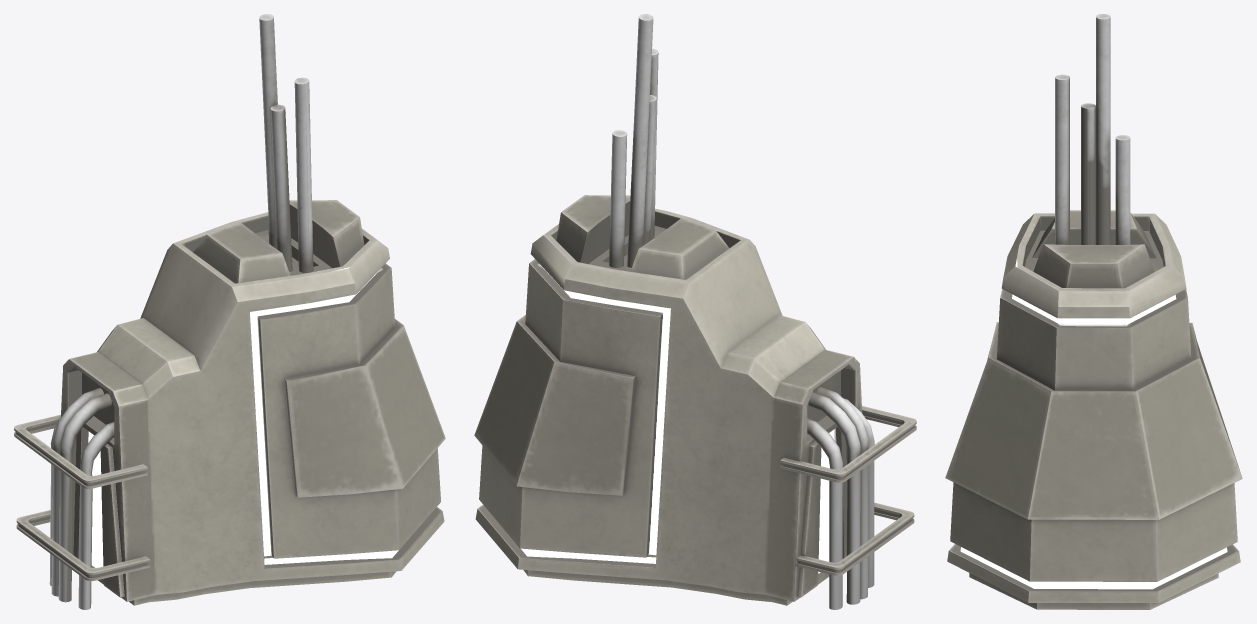
Rendered from SM_AntennaBase.fbx.
The picture shows the model from 3 angles, left to right: view 1: azimuth 30°, elevation 25°; view 2: azimuth 150°, elevation 25°; view 3: azimuth 270°, elevation 25°; orthographic projection.
Parts seen in each view (by area): view 1: SM_AntennaBase_LOD0; view 2: SM_AntennaBase_LOD0; view 3: SM_AntennaBase_LOD0.
Part boxes in pixels (left/top/right/bottom): SM_AntennaBase_LOD0: left=14, top=14, right=445, bottom=609; SM_AntennaBase_LOD0: left=474, top=14, right=916, bottom=609; SM_AntennaBase_LOD0: left=945, top=14, right=1242, bottom=609.
Bounding box in the file's own units: 1428 × 1957 × 990.
Materials: 1 (1 with a texture image).
